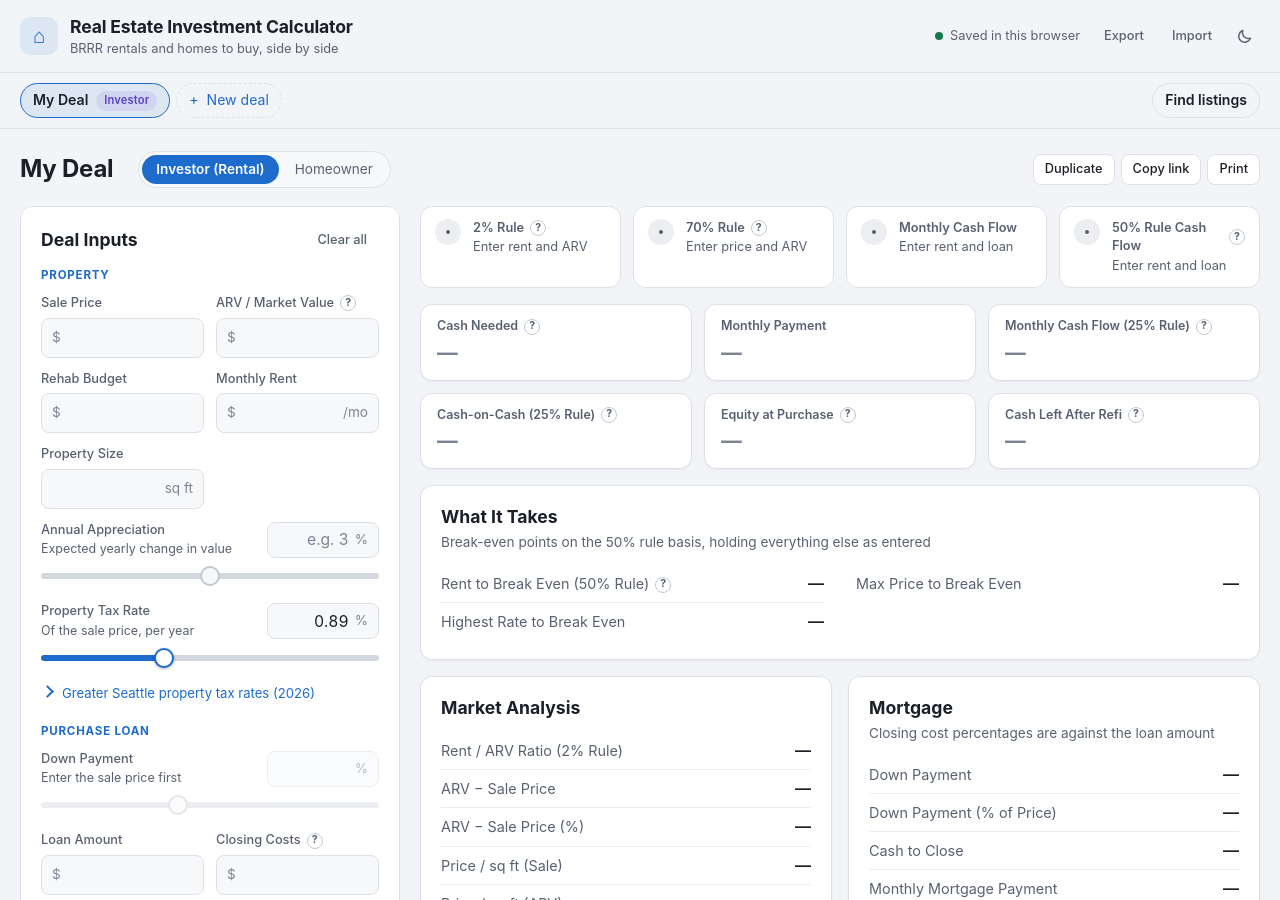
Scenario: App › moves a rate with its slider and shows what it costs
The width and height of the screenshot is (1280, 900).
Type "400000" into the field labelled "Sale Price" at [130, 338], box [67,319,193,357]
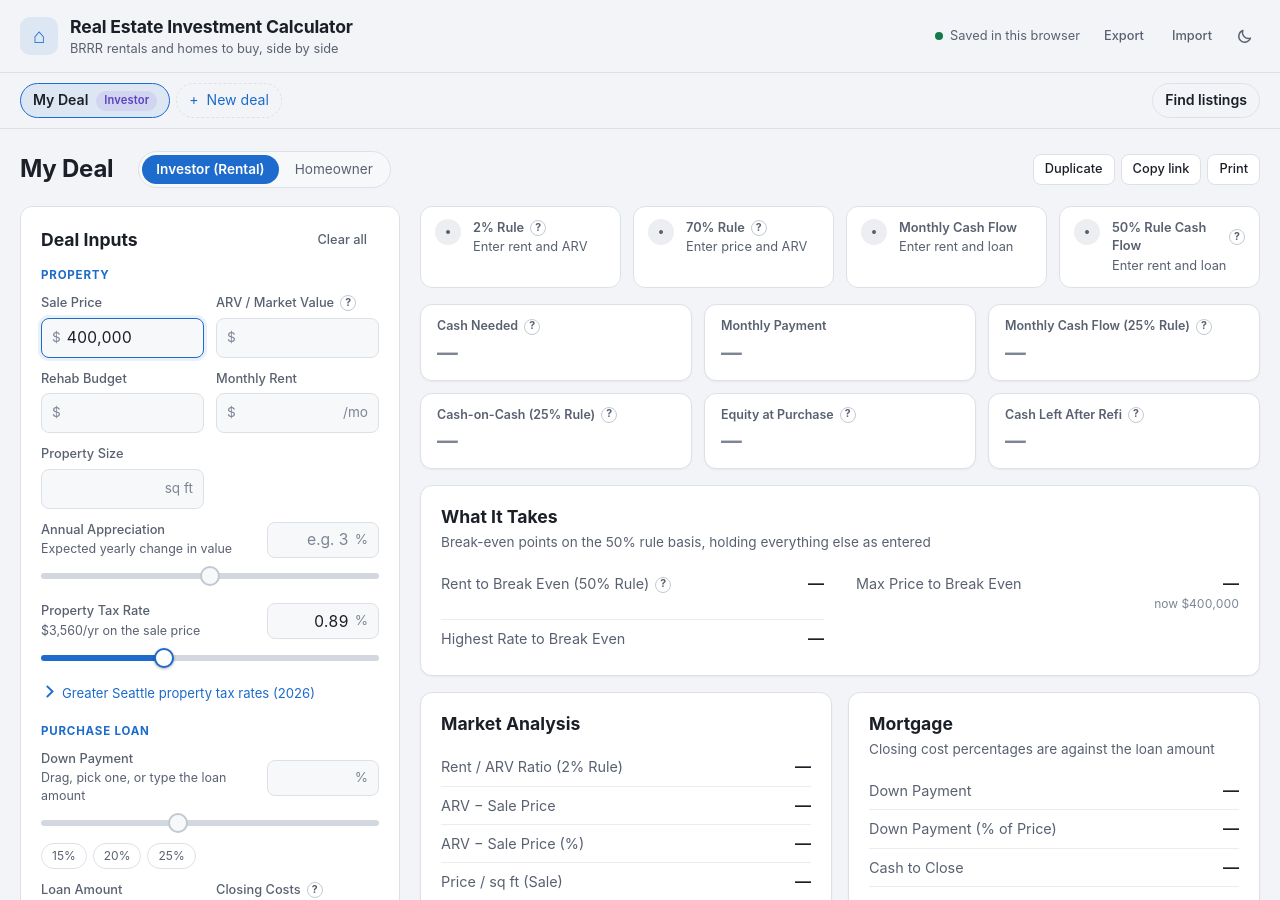
Click the button "20%" at [117, 856], box [93,844,142,869]
(page scrolled)
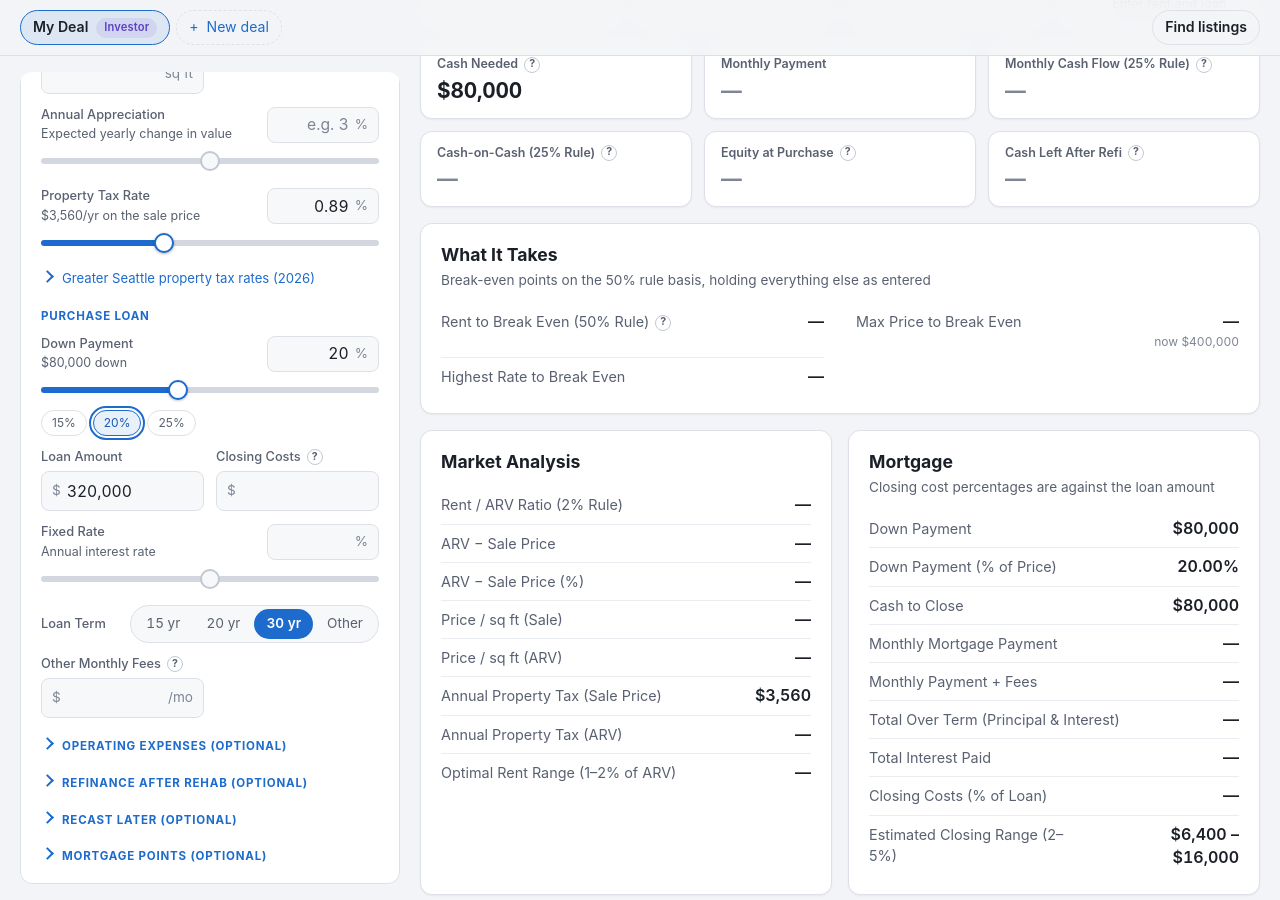
Set the slider named "Adjust fixed rate" to "6.5" at [194, 579], box [41,565,379,593]
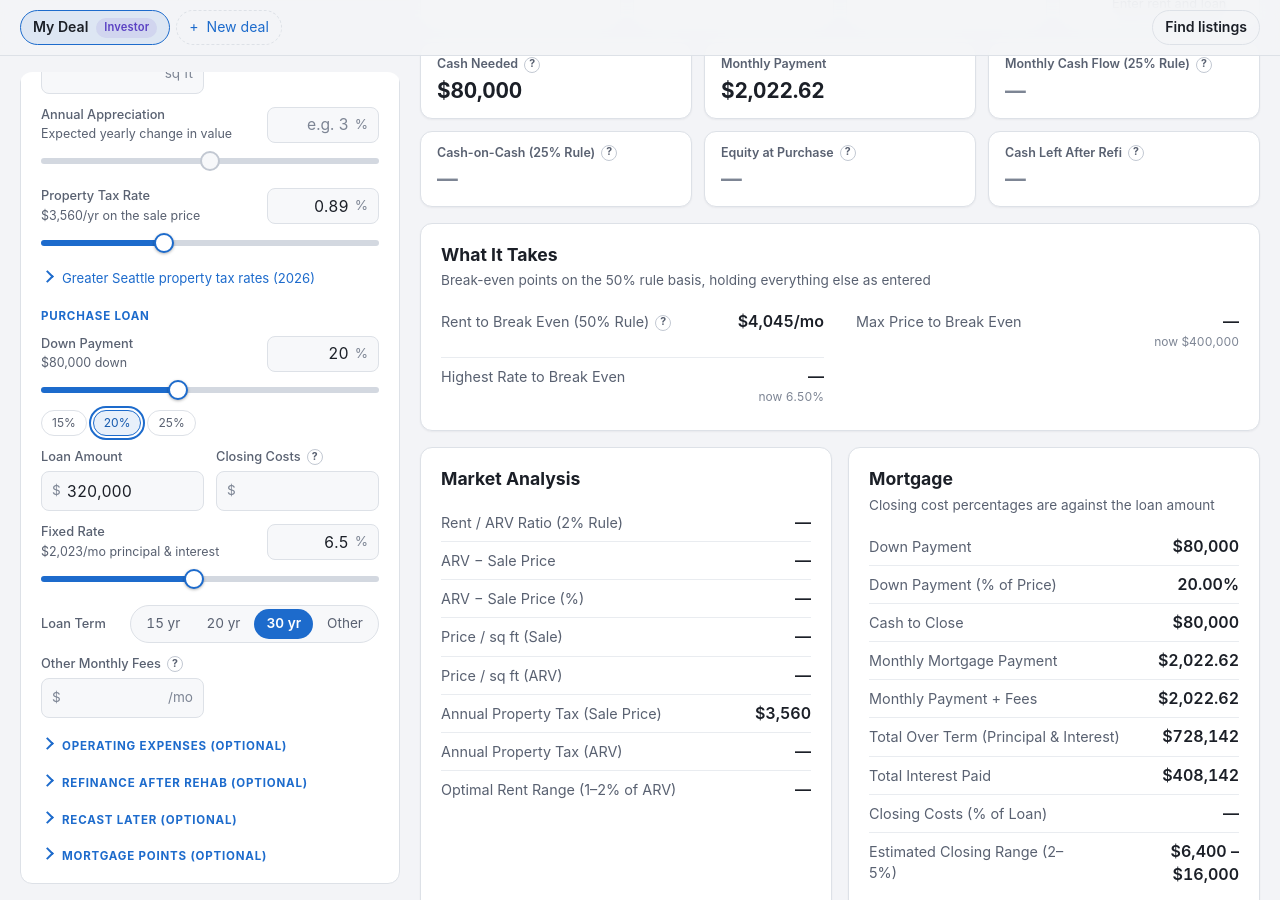
Now the field labelled "Fixed Rate" holds "6.5"
Now the text "$2,023/mo principal & interest" is shown, box [41,543,219,561]
Replace the text in the field labelled "Fixed Rate" with "14" at [313, 542], box [278,525,349,559]
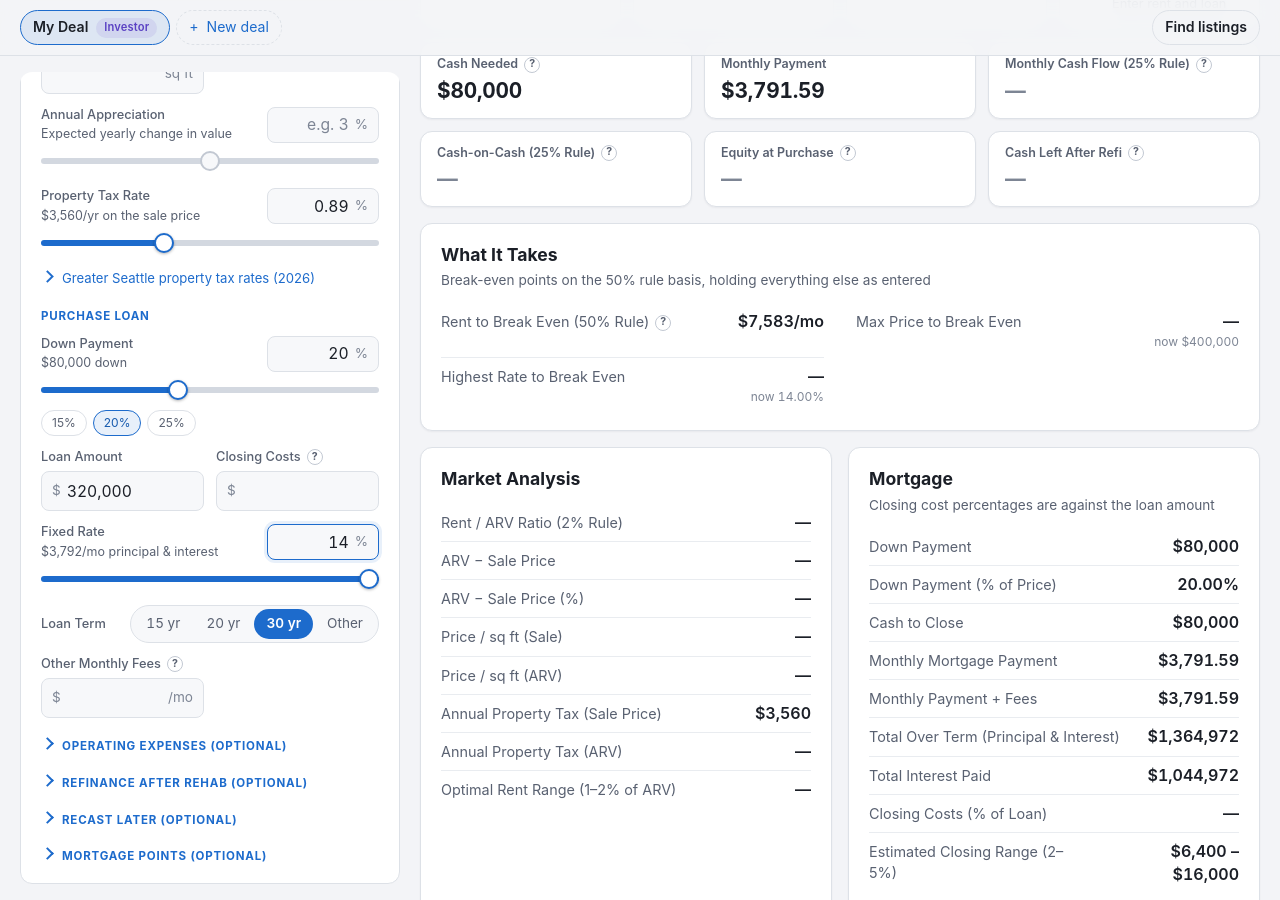
Now the slider named "Adjust fixed rate" holds "12", box [41,565,379,593]
